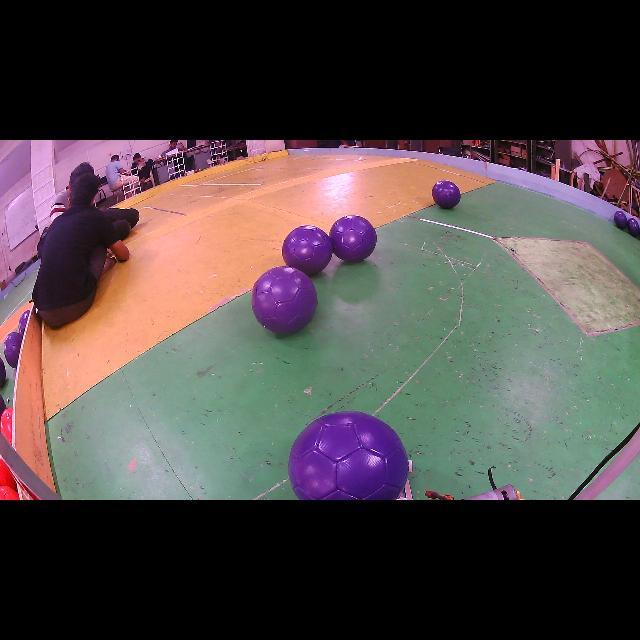P: (288, 410, 409, 500), (251, 266, 318, 334), (282, 225, 332, 275), (329, 215, 376, 262), (432, 180, 461, 209), (4, 332, 22, 368), (19, 310, 31, 335), (614, 210, 628, 230), (628, 218, 640, 237)
R: (0, 459, 16, 490), (0, 408, 12, 445), (0, 485, 19, 500)
